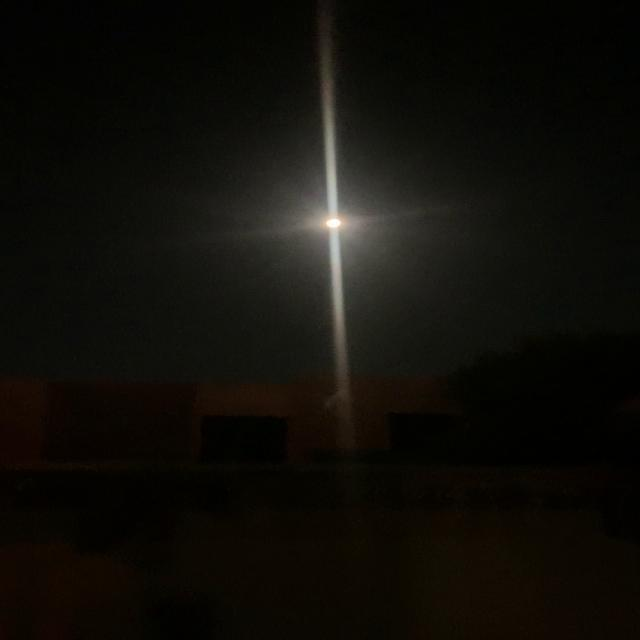moon: (308, 210, 352, 237)
